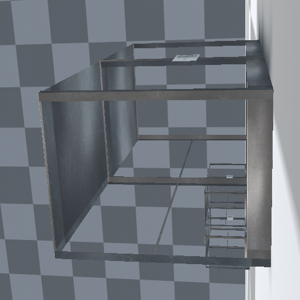Rack: (26, 30, 263, 263)
